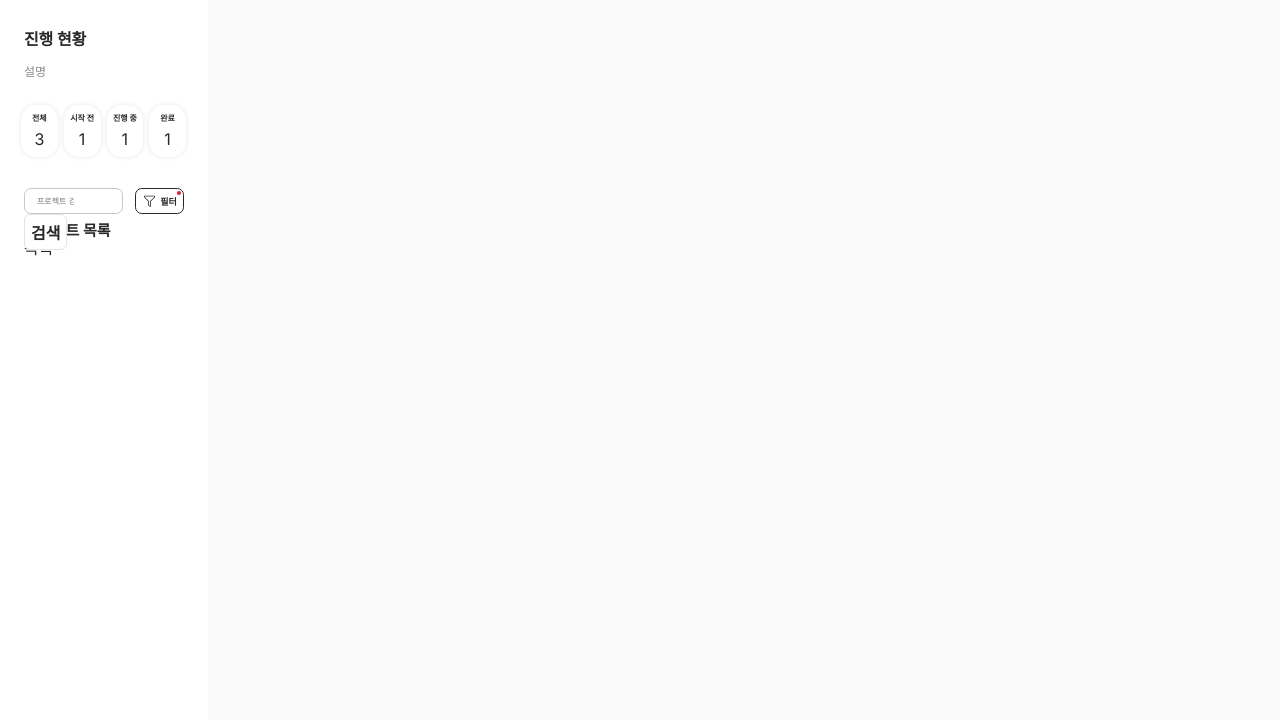
OsanListFrame 다중 선택 필터 › 전체 선택 해제 후 빈 배열을 적용하면 전체 조건으로 표시한다
The width and height of the screenshot is (1280, 720).
Click the button "필터" at [160, 201], box [135,188,184,214]
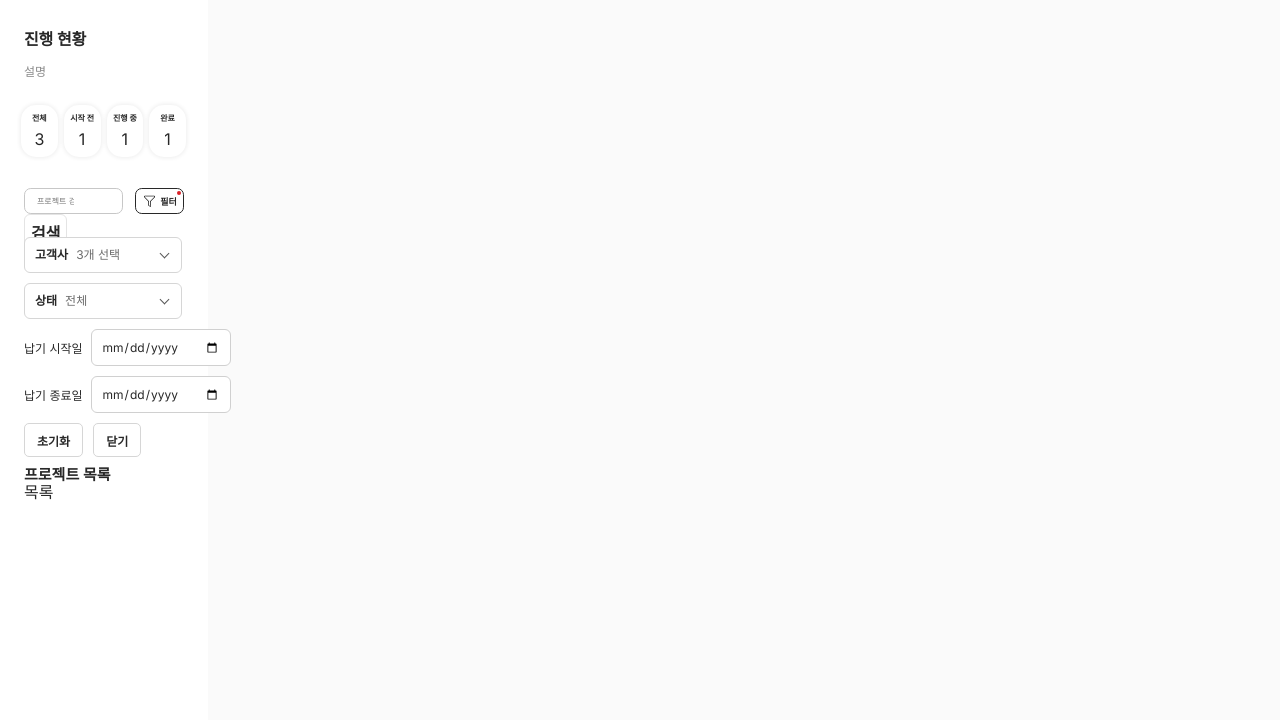
Click the button with aria-label "고객사 필터" at [103, 255], box [24,237,182,273]
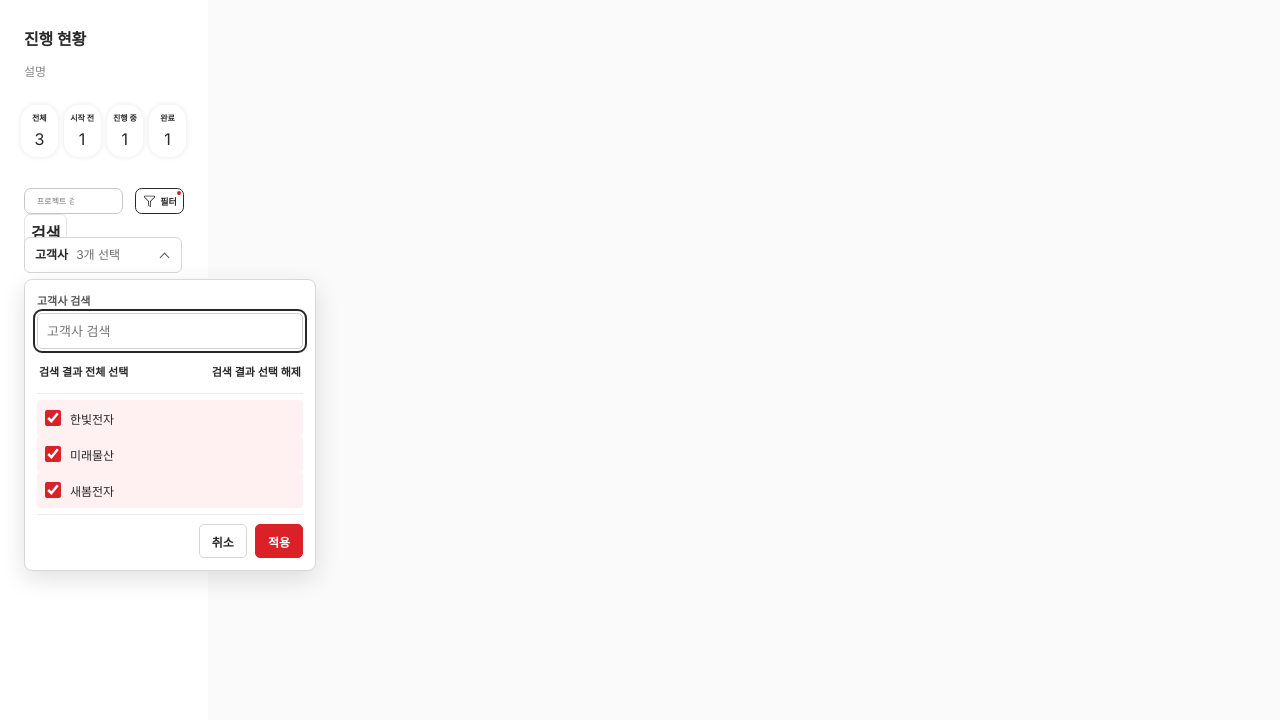
Click the button "검색 결과 선택 해제" at [256, 371], box [210,357,303,385]
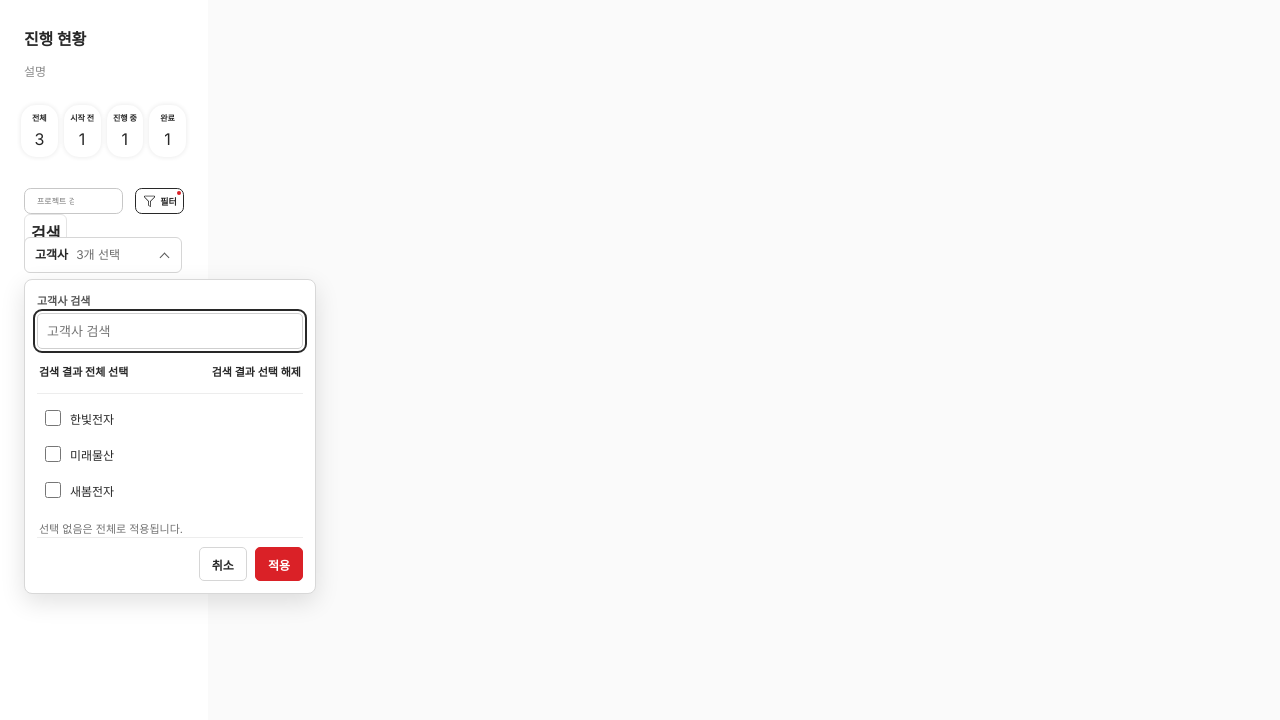
Now the checkbox labelled "한빛전자" is not checked, box [45,410,61,426]
Now the checkbox labelled "미래물산" is not checked, box [45,446,61,462]
Now the checkbox labelled "새봄전자" is not checked, box [45,482,61,498]
Click the button "적용" at [279, 564], box [255,547,303,581]
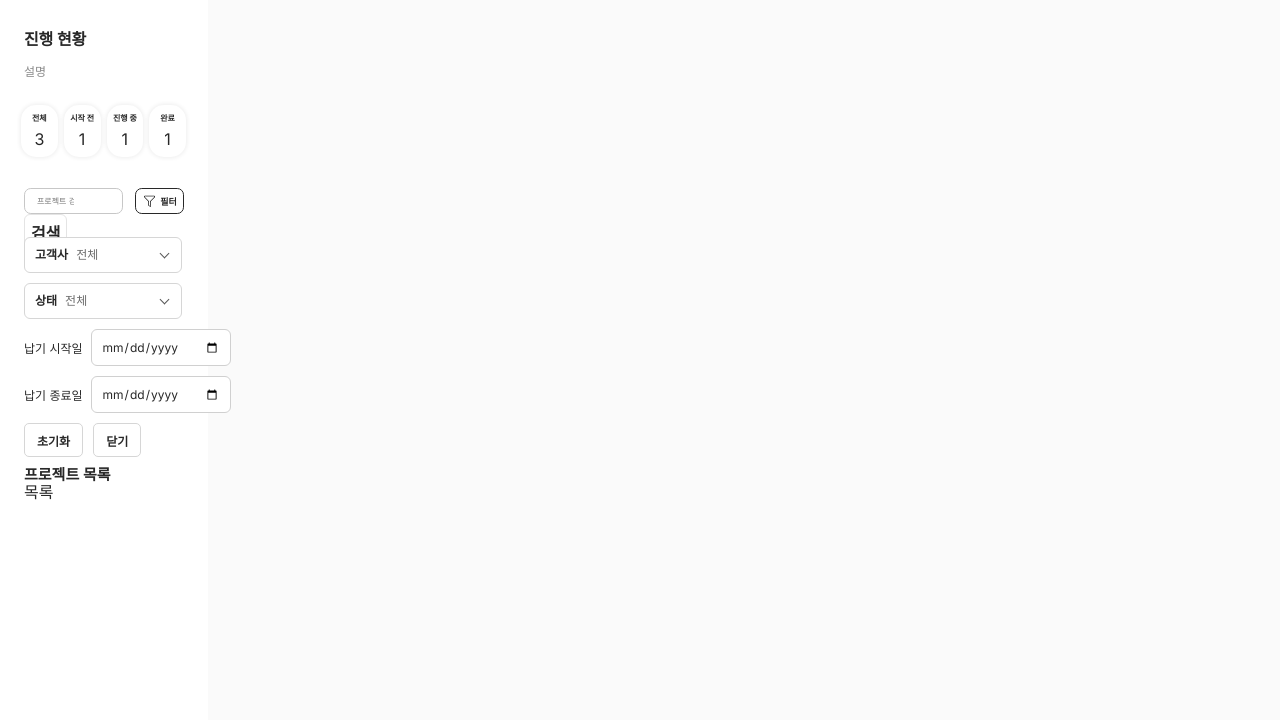
Now the button with aria-label "고객사 필터: 전체" is shown, box [24,237,182,273]
